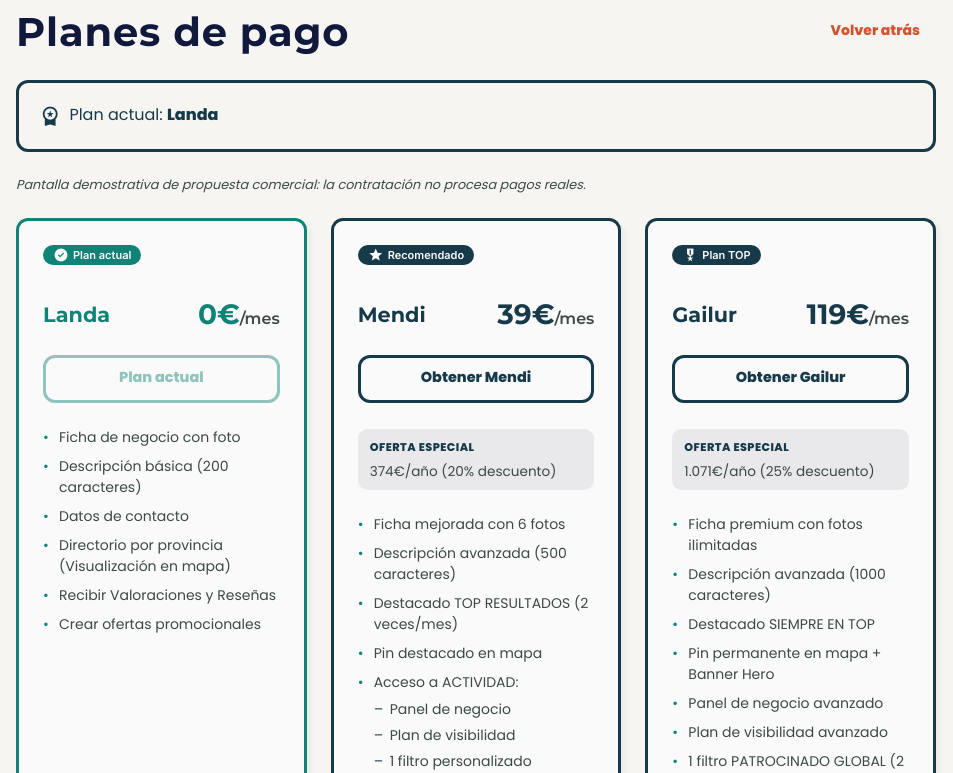
BusinessSubscriptions · copy Marketing › al pulsar 'Obtener Mendi' pasa a ser el plan actual (sin pago real)
Click the button "Obtener Mendi". click: [476, 379]
box: [358,355,594,403]
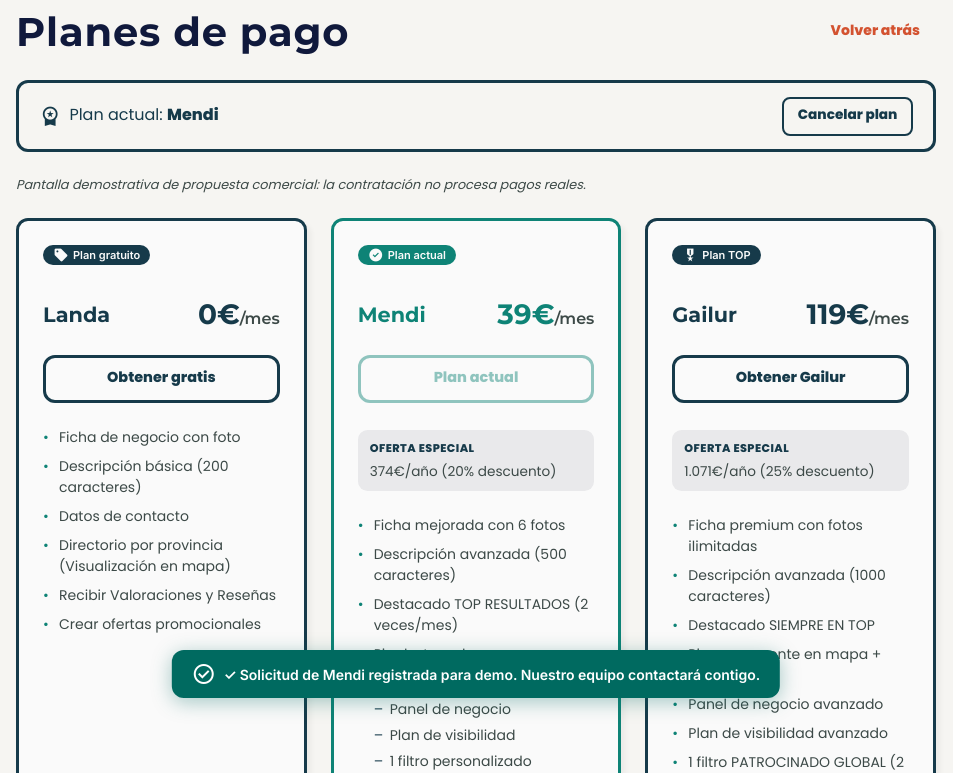
Expected: the 1st text "Mendi" is shown, [167,102,219,130]
Expected: the button "Obtener gratis" is shown, [43,355,280,403]
